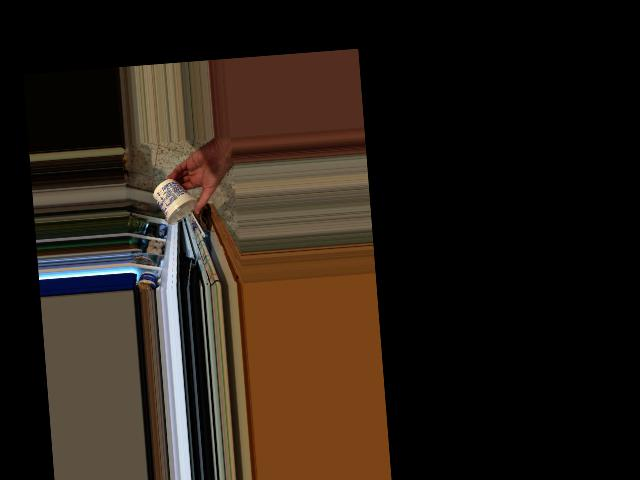cotage: (157, 177, 202, 219)
